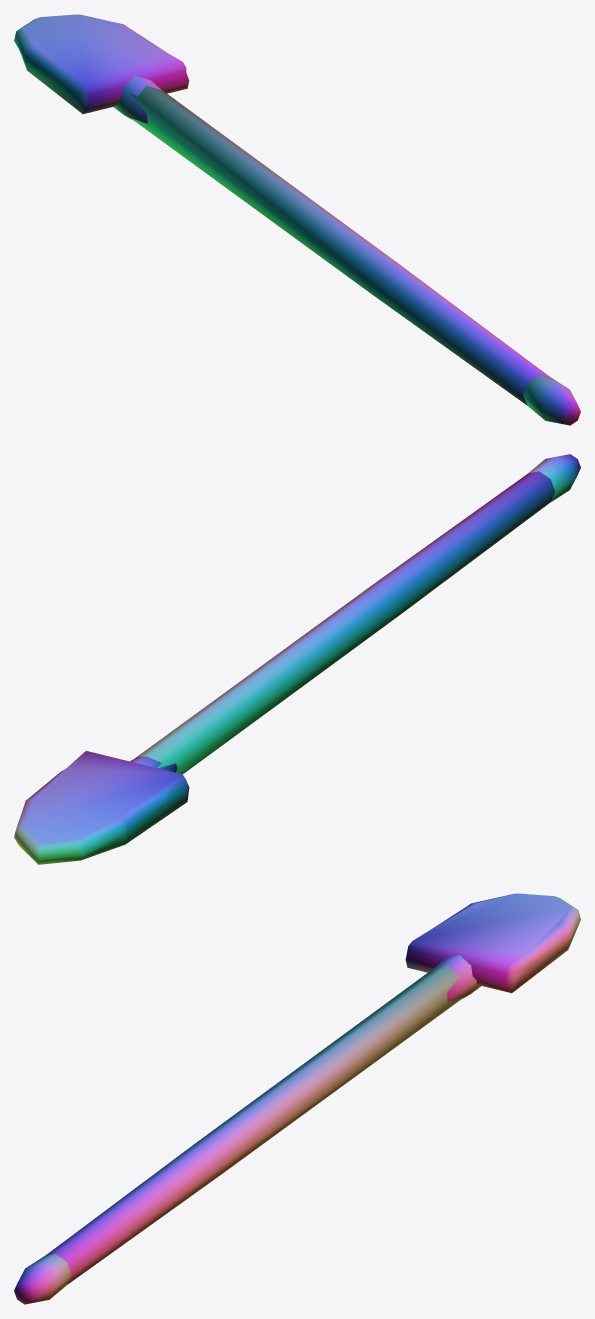
The model's file is SM_MonWeapon_PitSpade.fbx.
3 views of the same model, one above another, from view 1: azimuth 30°, elevation 25°; view 2: azimuth 150°, elevation 25°; view 3: azimuth 330°, elevation 25° (orthographic).
Visible parts, largest first — view 1: SM_MonWeapon_PitSpade; view 2: SM_MonWeapon_PitSpade; view 3: SM_MonWeapon_PitSpade.
Part boxes in pixels (x1=…): SM_MonWeapon_PitSpade: x1=14, y1=14, x2=580, y2=425; SM_MonWeapon_PitSpade: x1=14, y1=454, x2=580, y2=864; SM_MonWeapon_PitSpade: x1=14, y1=893, x2=580, y2=1304.
Size of the model in its own units: 0.2333 by 0.0864 by 2.02.
